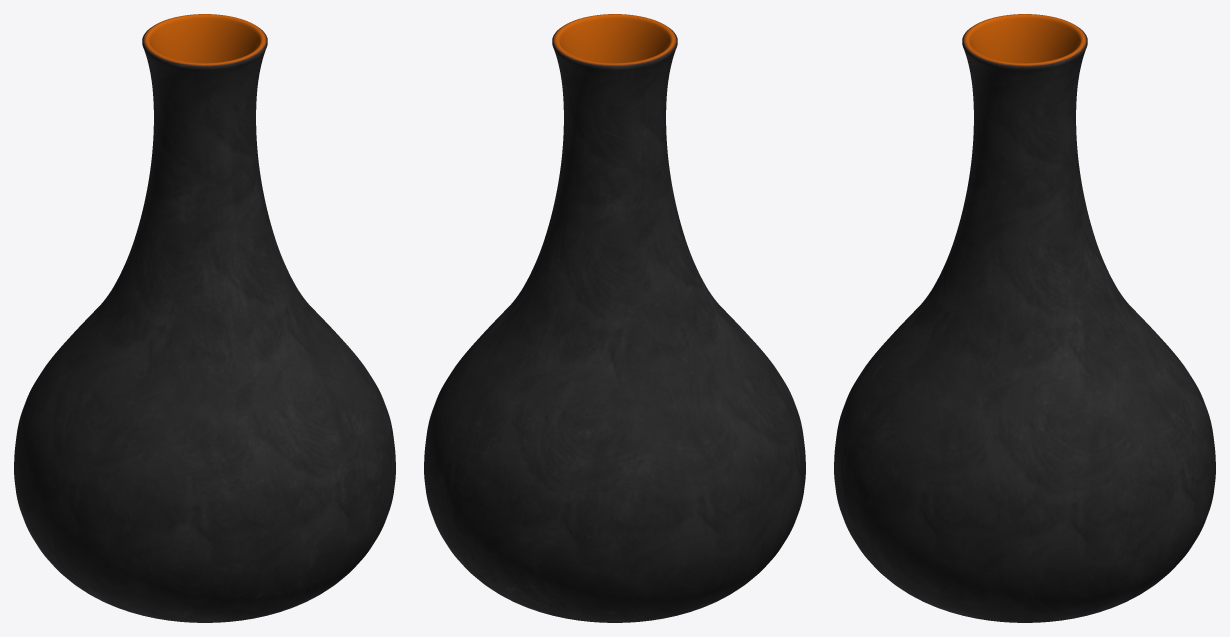
The model's file is vase.gltf.
3 views of the same model, side by side, from view 1: azimuth 30°, elevation 25°; view 2: azimuth 150°, elevation 25°; view 3: azimuth 270°, elevation 25° (orthographic).
Visible parts, largest first — view 1: Line003; view 2: Line003; view 3: Line003.
Boxes of the visible parts, bbox=[...] form: Line003: bbox=[14, 14, 395, 622]; Line003: bbox=[424, 14, 805, 622]; Line003: bbox=[834, 14, 1215, 622].
Bounding box in the file's own units: 19.44 × 30.53 × 19.44.
1 material, 1 textured.
